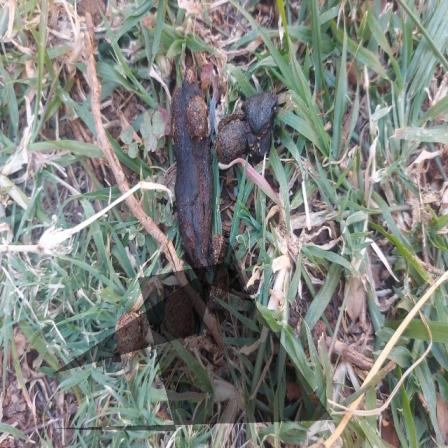dog-poop: (158, 73, 281, 272)
